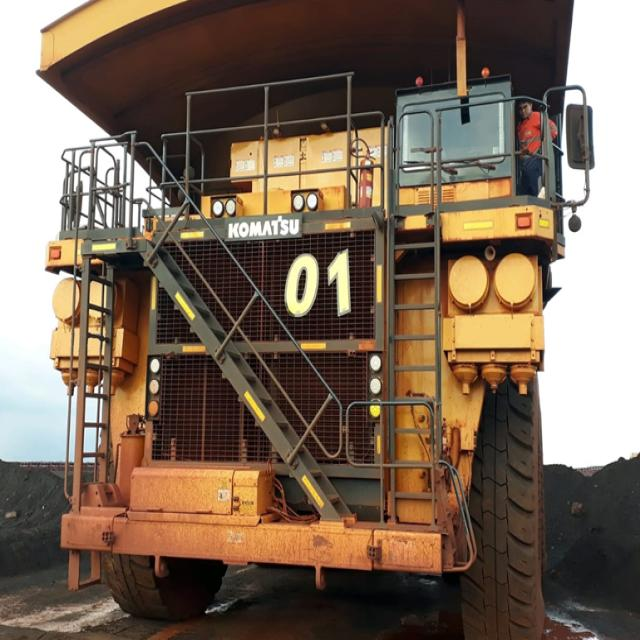dump_truck: (23, 0, 639, 639)
